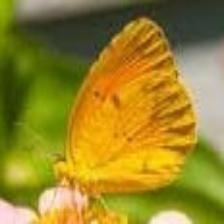butterfly: (56, 18, 196, 196)
